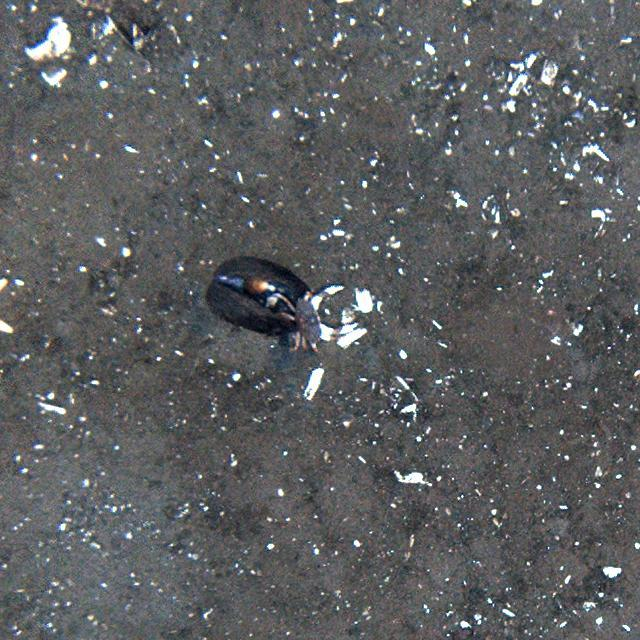crab: (284, 280, 357, 355)
